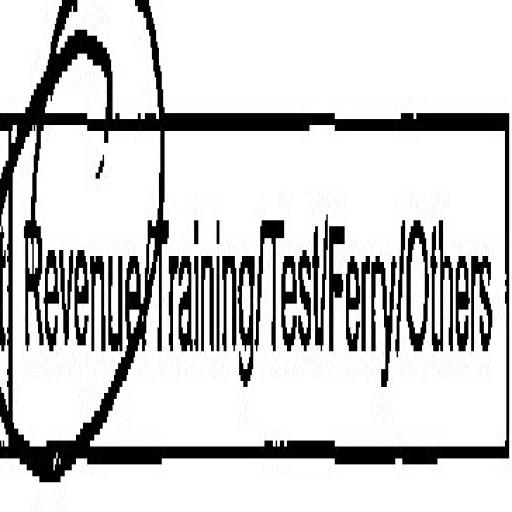check: (8, 0, 146, 512)
